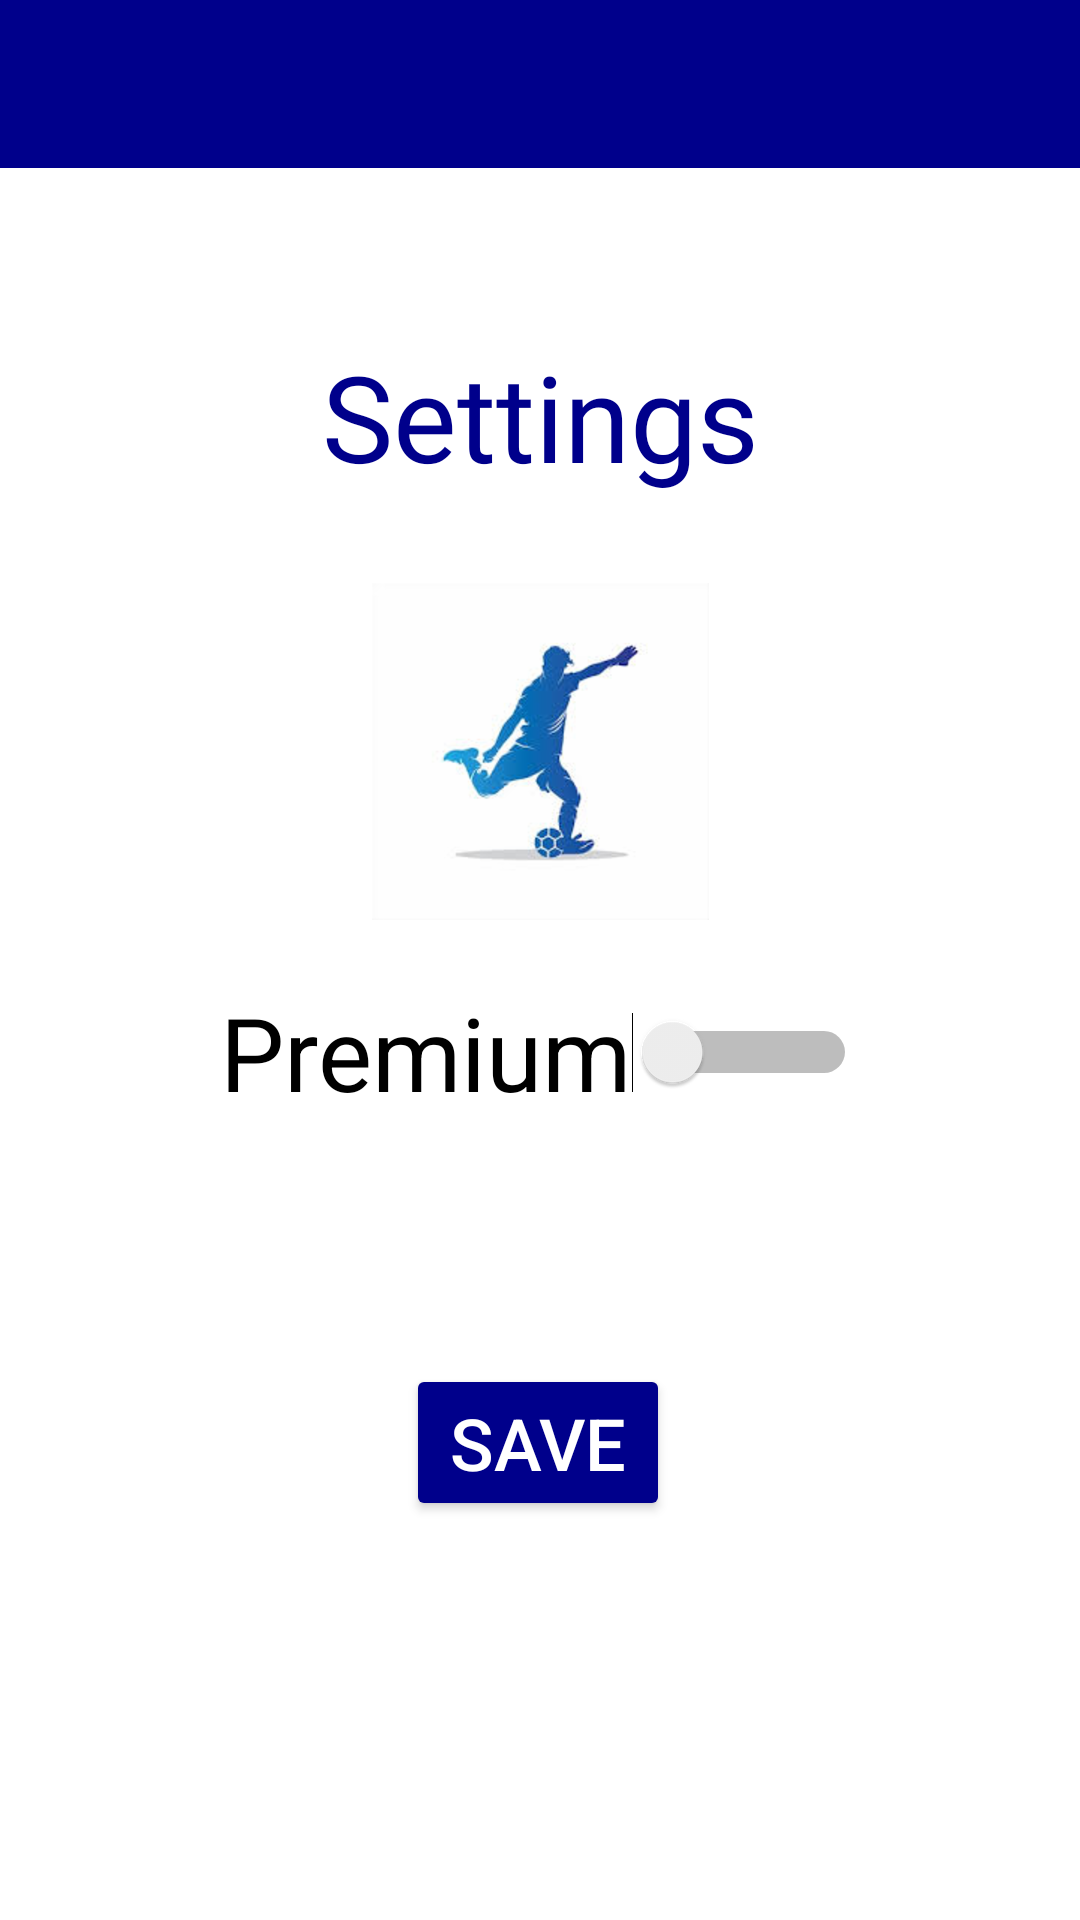

Named icons in this screenshot (1080w x 1920h) and their centers, (x,y):
playerfoot: (541,752)
